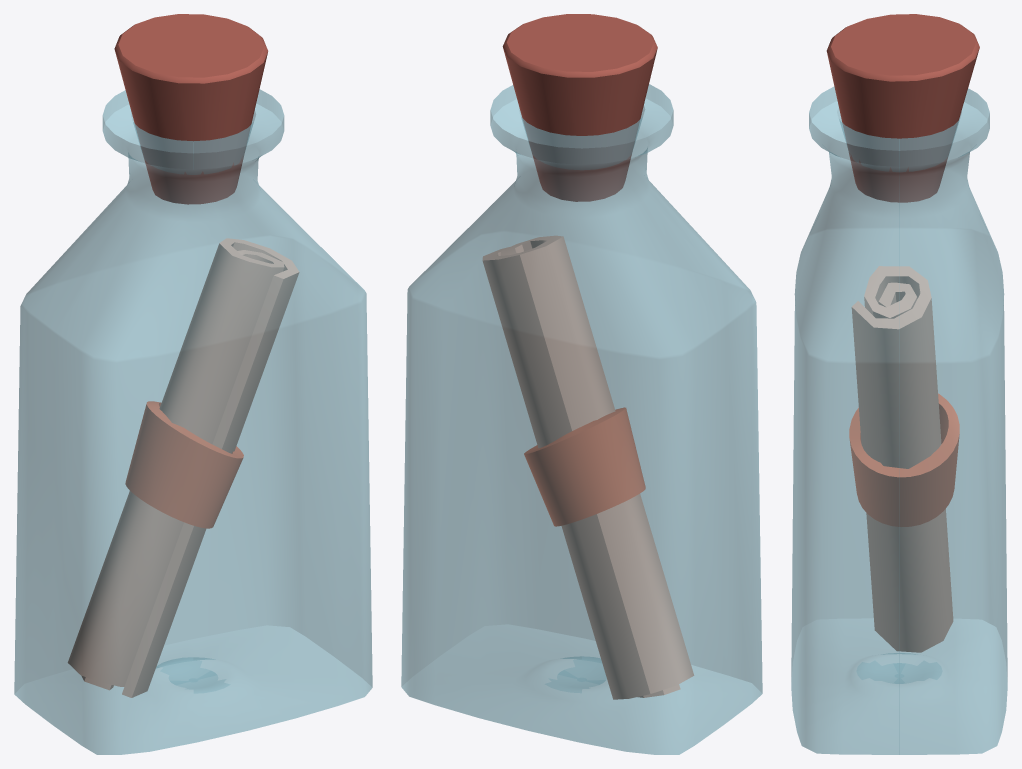
The model's file is BottleWithLetter3.fbx.
3 views of the same model, side by side, from view 1: azimuth 30°, elevation 25°; view 2: azimuth 150°, elevation 25°; view 3: azimuth 270°, elevation 25° (orthographic).
Visible parts, largest first — view 1: Bottle.002, Paper.002, Cap.002; view 2: Bottle.002, Paper.002, Cap.002; view 3: Bottle.002, Paper.002, Cap.002.
Part boxes in pixels (x1,y1,x2,y2): Bottle.002: (14, 89, 372, 754); Paper.002: (68, 238, 299, 697); Cap.002: (114, 14, 268, 204); Bottle.002: (401, 84, 762, 754); Paper.002: (482, 235, 693, 699); Cap.002: (502, 14, 657, 201); Bottle.002: (791, 86, 1007, 754); Paper.002: (849, 266, 959, 652); Cap.002: (826, 14, 979, 202).
Bounding box in the file's own units: 83.7 × 184 × 56.02.
